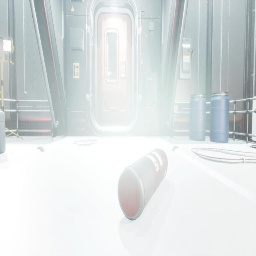EmergencyPhone ,: (72, 58, 80, 79)
NitrogenTank ,: (118, 148, 168, 220)
SafetySwitchPanel ,: (178, 38, 194, 80)
